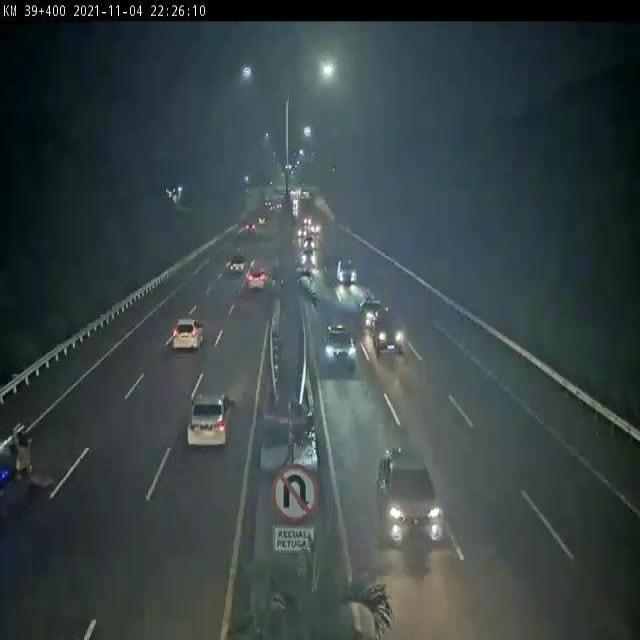car: (377, 443, 447, 555), (165, 380, 242, 480), (158, 308, 210, 367), (317, 317, 358, 372), (371, 316, 407, 353), (336, 253, 363, 288), (358, 295, 389, 325), (239, 260, 267, 293)
truck: (2, 413, 55, 520), (401, 459, 405, 464)
